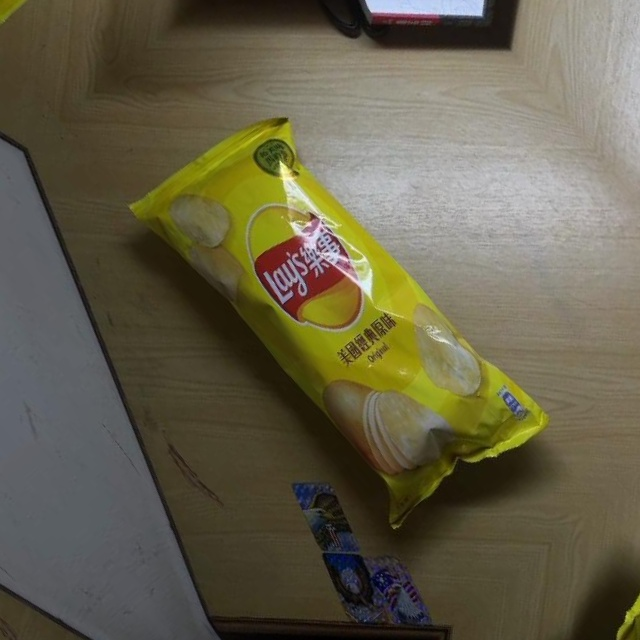Lay-s-original: (117, 79, 555, 548)
